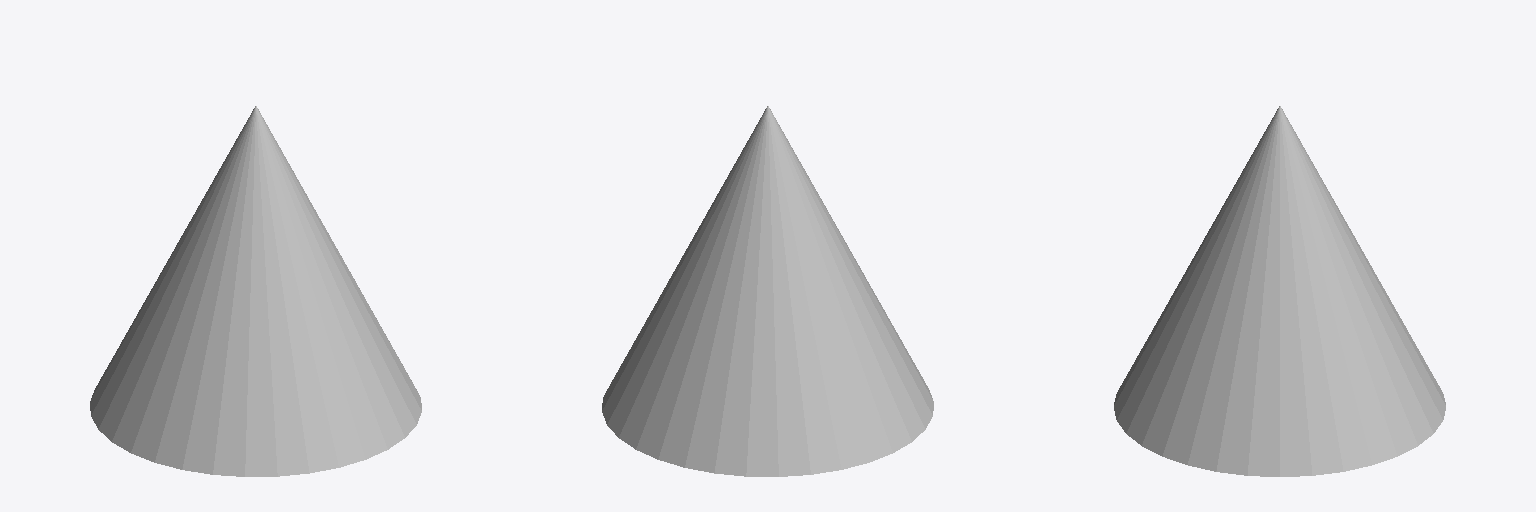
File: pyramidal_canopy.obj
The picture shows the model from 3 angles: view 1: azimuth 30°, elevation 25°; view 2: azimuth 150°, elevation 25°; view 3: azimuth 270°, elevation 25°; orthographic projection.
Parts seen in each view (by area): view 1: Pyramidal_canopy; view 2: Pyramidal_canopy; view 3: Pyramidal_canopy.
Part boxes in pixels (x1,y1,x2,y2): Pyramidal_canopy: (90,106,421,476); Pyramidal_canopy: (602,106,933,476); Pyramidal_canopy: (1114,106,1445,476).
Bounding box in the file's own units: 0.3055 × 0.3055 × 0.3055.